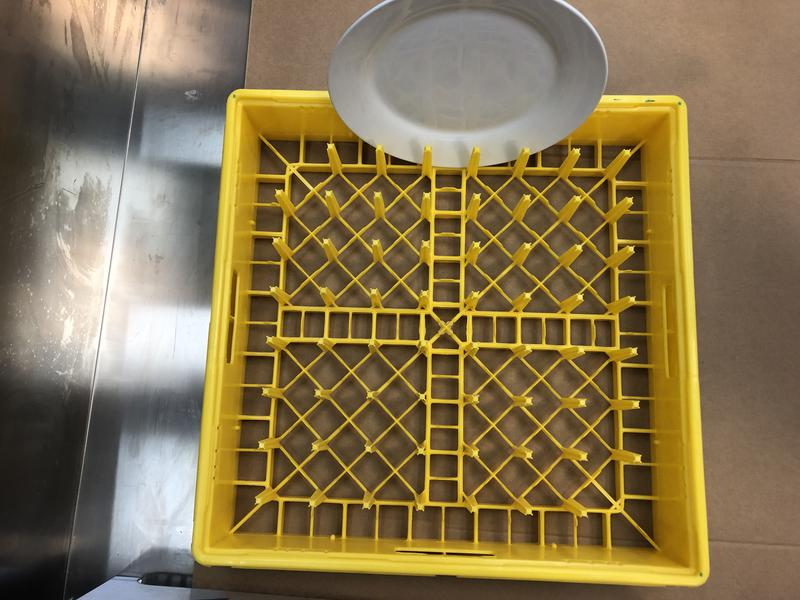Dish: (325, 0, 607, 169)
